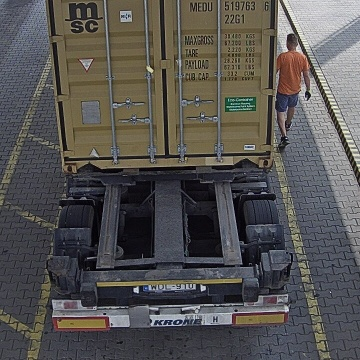serial_id: (190, 0, 270, 11)
